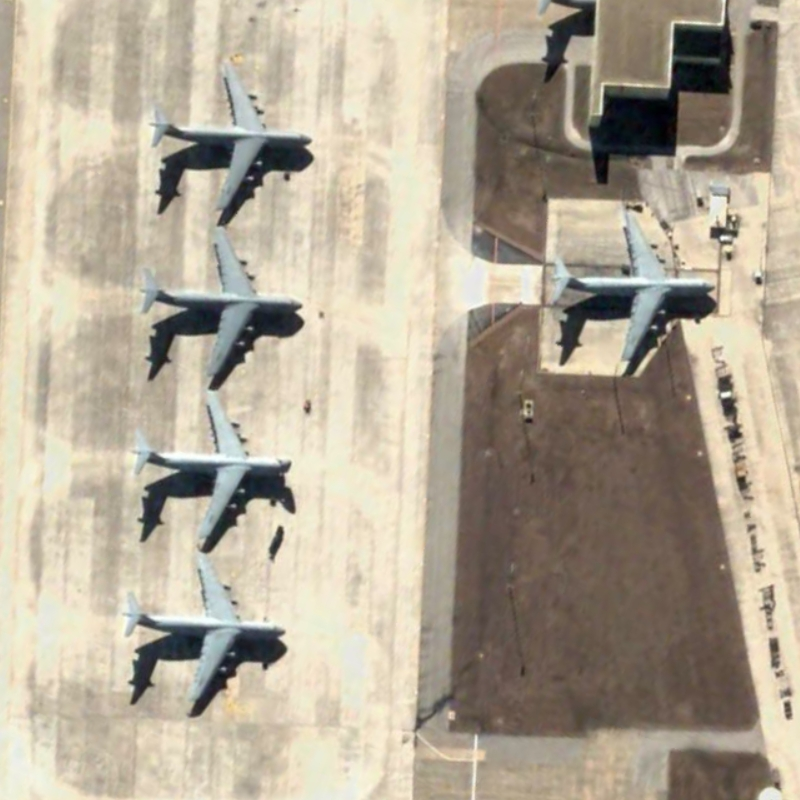A4: (109, 553, 291, 728), (546, 200, 719, 379), (120, 389, 303, 558), (133, 222, 312, 388), (146, 52, 318, 221)
